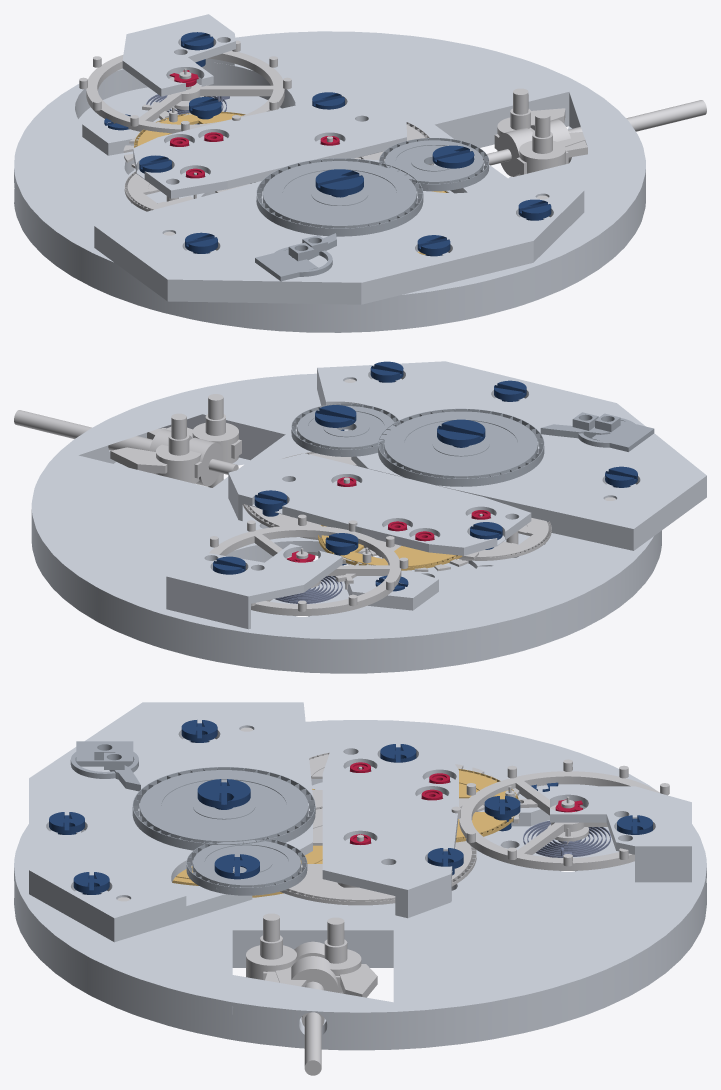
File: watch_caliber_assembly.glb
3 views of the same model, one above another, from view 1: azimuth 30°, elevation 25°; view 2: azimuth 150°, elevation 25°; view 3: azimuth 270°, elevation 25° (orthographic). The views are drawn at different scales.
Visible parts, largest first — view 1: watch_caliber_assembly (×6); view 2: watch_caliber_assembly (×7); view 3: watch_caliber_assembly (×7).
Part boxes in pixels (x1=…): watch_caliber_assembly (×6): x1=14, y1=14, x2=706, y2=332; watch_caliber_assembly (×7): x1=14, y1=361, x2=706, y2=673; watch_caliber_assembly (×7): x1=14, y1=702, x2=706, y2=1075.
Bounding box in the file's own units: 0.0418 × 0.0064 × 0.0366.
